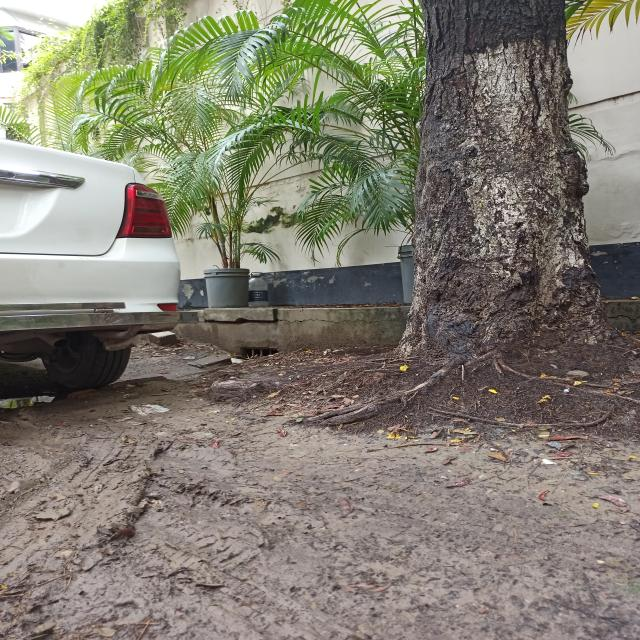artificial_container: (203, 267, 250, 308), (247, 272, 269, 307)
